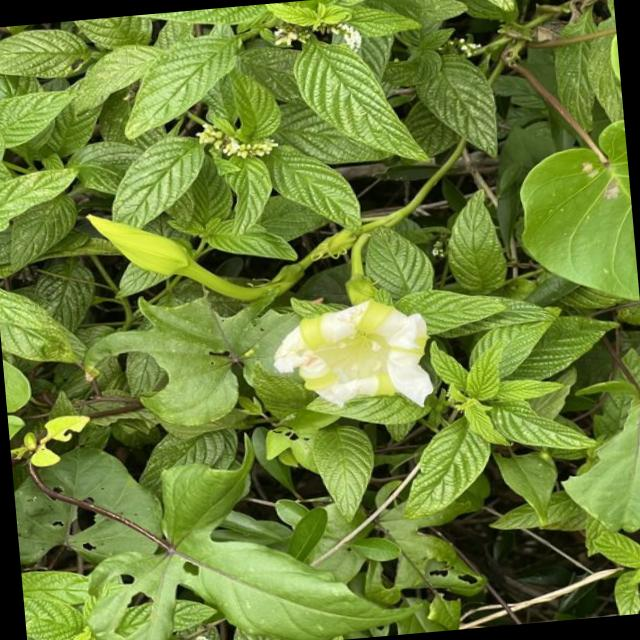ipomoea: (264, 292, 440, 422), (190, 110, 284, 169)
